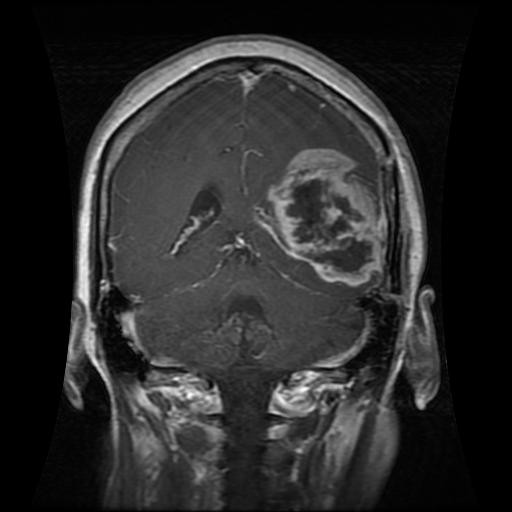Gliomia_tumour: (249, 142, 390, 287)
